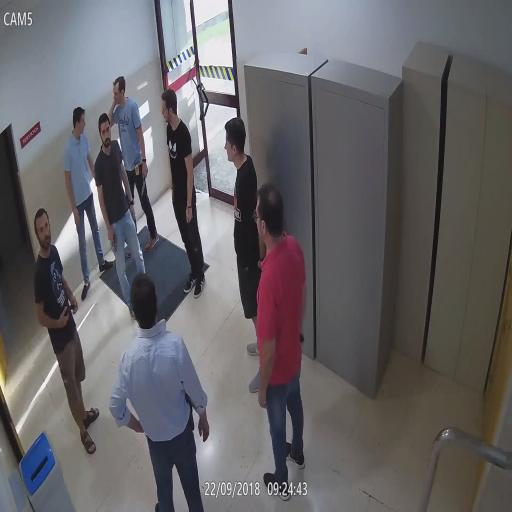Handgun: (60, 302, 76, 331), (185, 388, 195, 431), (107, 224, 118, 253)
